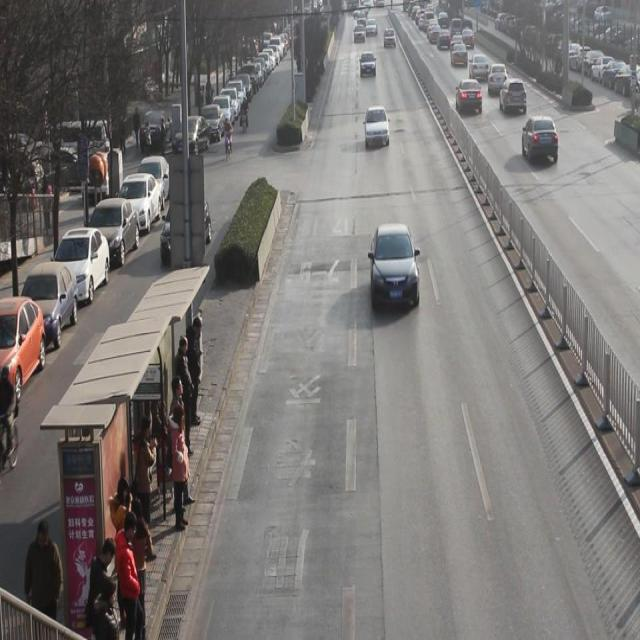car: (370, 223, 420, 314), (160, 190, 212, 264), (522, 116, 558, 166), (364, 106, 389, 150), (500, 78, 527, 116), (457, 78, 482, 116), (488, 63, 509, 95), (469, 54, 490, 81), (360, 50, 376, 79), (452, 42, 468, 68), (462, 25, 475, 48), (383, 28, 397, 49), (448, 31, 462, 49), (366, 18, 378, 38), (354, 24, 366, 44)
